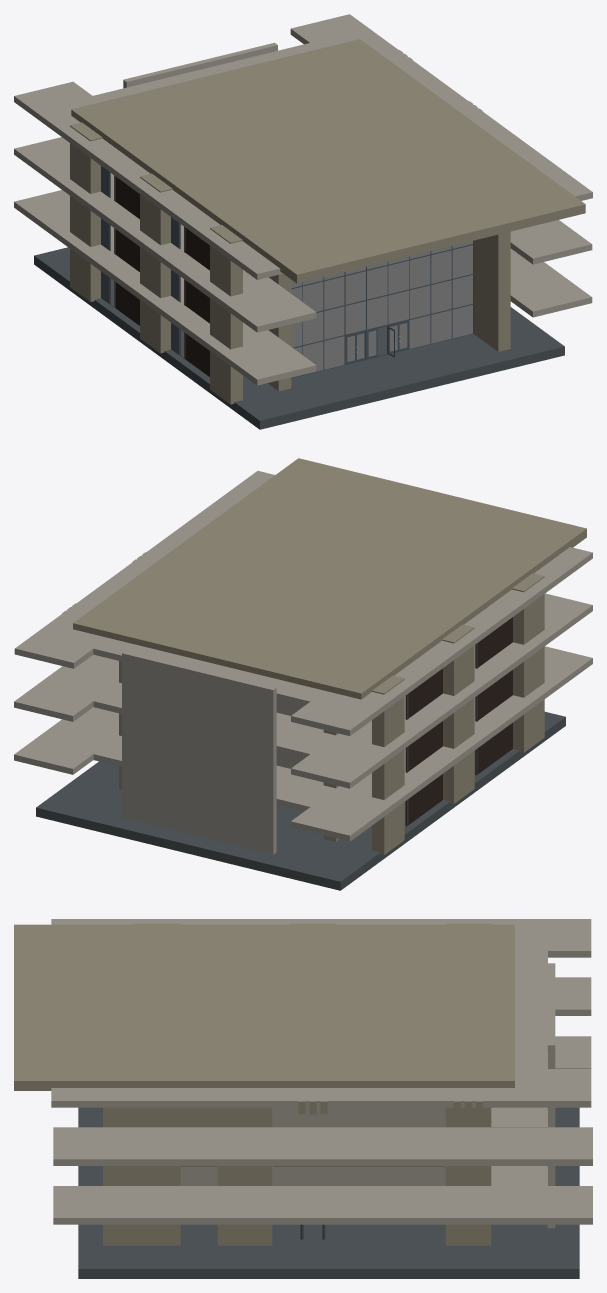
The model's file is aula_scratch.gltf.
3 renders of one model, top to bottom at view 1: azimuth 30°, elevation 25°; view 2: azimuth 150°, elevation 25°; view 3: azimuth 270°, elevation 25°, orthographic. The views are drawn at different scales.
Parts seen in each view (by area): view 1: Wall.003, Floor, Wall.013, Wall.015, Wall.016, Wall.020, Wall.002, Wall.019, Wall.017, Wall.018, Wall.022, Wall.024 (+31 smaller); view 2: Wall.003, Wall.032, Floor, Wall.013, Wall.015, Wall.016, Wall.020, Wall.022, Wall.024, Wall.018, Wall.019, Wall.017 (+9 smaller); view 3: Wall.003, Floor, Wall.022, Wall.024, Wall.020, Wall.002, Wall.016, Wall.021, Wall.031, Wall.023, Wall.011, Wall.015 (+4 smaller).
Part boxes in pixels (<box>): Wall.003: <box>71,39,585,283</box>; Floor: <box>34,247,564,429</box>; Wall.013: <box>14,190,316,385</box>; Wall.015: <box>14,137,316,332</box>; Wall.016: <box>14,81,282,279</box>; Wall.020: <box>290,14,592,200</box>; Wall.002: <box>473,231,510,351</box>; Wall.019: <box>210,225,242,404</box>; Wall.017: <box>140,173,172,353</box>; Wall.018: <box>70,122,102,301</box>; Wall.022: <box>510,248,592,317</box>; Wall.024: <box>510,220,592,264</box>; Wall.003: <box>73,458,586,699</box>; Wall.032: <box>122,651,276,854</box>; Floor: <box>36,711,565,890</box>; Wall.013: <box>291,646,592,841</box>; Wall.015: <box>291,593,592,788</box>; Wall.016: <box>291,547,592,735</box>; Wall.020: <box>14,471,274,668</box>; Wall.022: <box>14,707,118,774</box>; Wall.024: <box>14,654,118,721</box>; Wall.018: <box>372,675,404,854</box>; Wall.019: <box>512,573,544,752</box>; Wall.017: <box>442,624,474,803</box>; Wall.003: <box>14,924,514,1090</box>; Floor: <box>78,1107,579,1278</box>; Wall.022: <box>53,1186,592,1224</box>; Wall.024: <box>53,1127,592,1165</box>; Wall.020: <box>51,1069,591,1107</box>; Wall.002: <box>103,1107,272,1245</box>; Wall.016: <box>51,919,591,957</box>; Wall.021: <box>180,1166,445,1185</box>; Wall.031: <box>515,951,547,1068</box>; Wall.023: <box>272,1107,445,1127</box>; Wall.011: <box>445,1107,491,1245</box>; Wall.015: <box>555,977,591,1015</box>.
Size of the model in its own units: 23.62 by 11.68 by 31.69.
